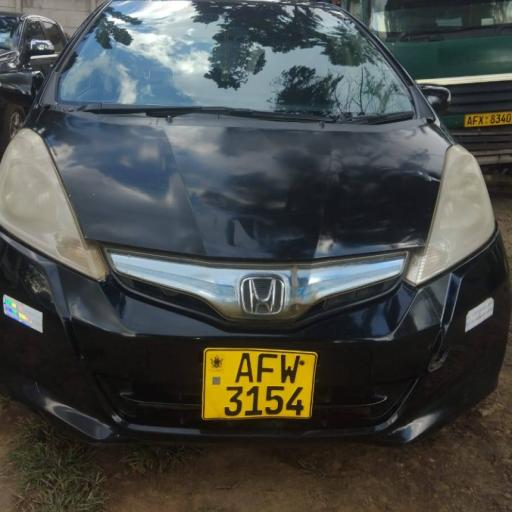number-plates: (205, 348, 309, 420)
